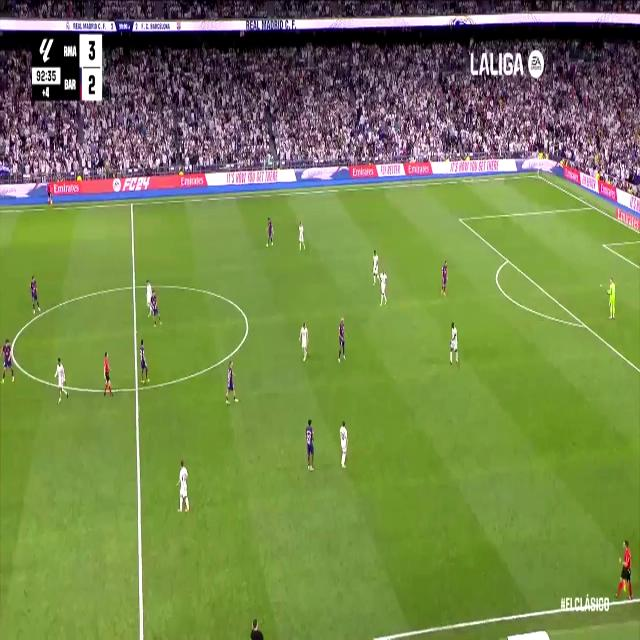bigarea_top_inner: (457, 212, 463, 225)
bigarea_top_outter: (590, 201, 597, 211)
bottom_arc_area_intersection: (580, 316, 588, 334)
corner: (534, 170, 541, 180)
halfcircle_bottom: (132, 376, 142, 400)
halfcircle_top: (129, 276, 139, 296)
midline_top_intersection: (129, 198, 135, 210)
smallarea_top_inner: (601, 240, 606, 249)
top_arc_area_intersection: (504, 252, 511, 266)
